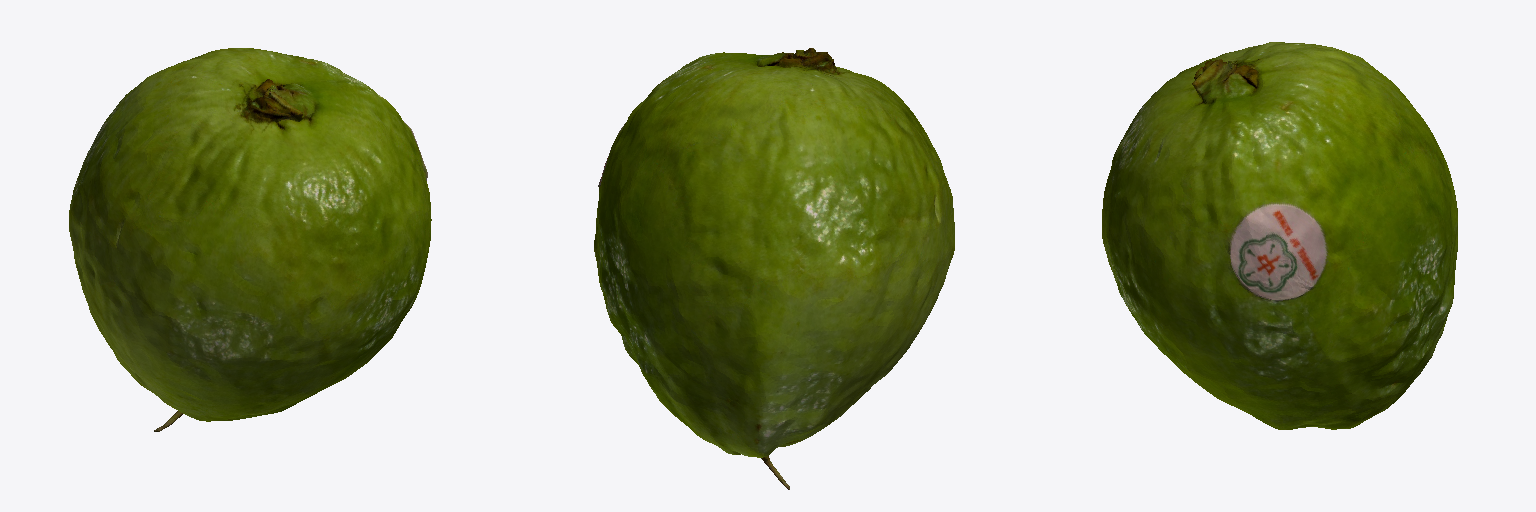
3 renders of one model, left to right at view 1: azimuth 30°, elevation 25°; view 2: azimuth 150°, elevation 25°; view 3: azimuth 270°, elevation 25°, orthographic.
Bounding box in the file's own units: 81.84 × 93.52 × 79.34.
1 materials, 1 textured.